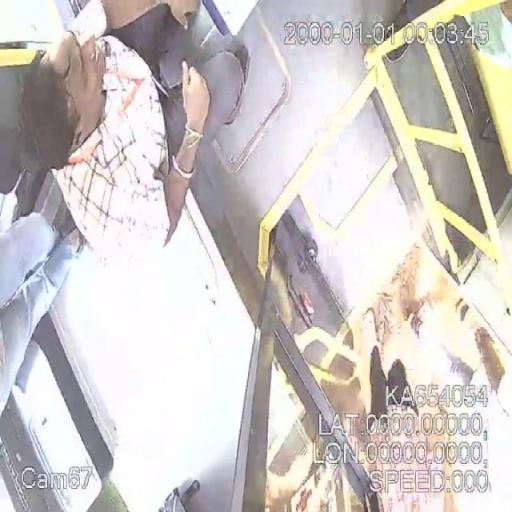persona: (16, 0, 247, 276), (356, 313, 436, 512)
